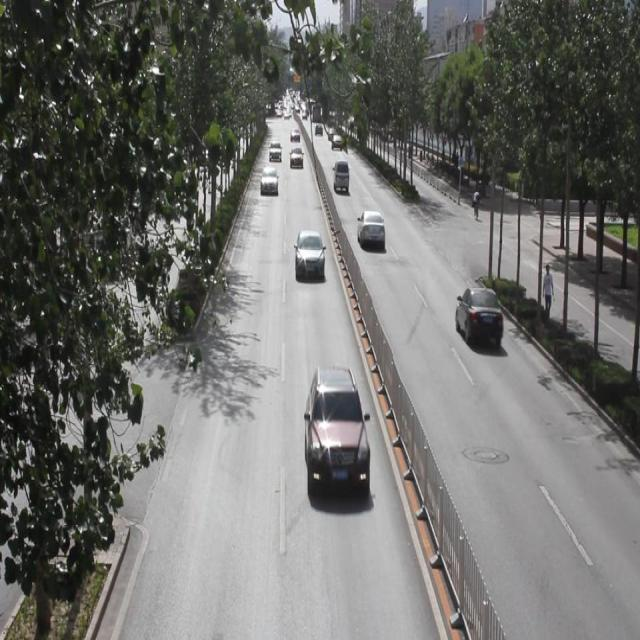car: (304, 366, 368, 491), (455, 284, 502, 345), (294, 229, 324, 282), (356, 209, 384, 251), (259, 165, 279, 195), (268, 139, 282, 163), (289, 146, 303, 168), (331, 132, 343, 151), (290, 125, 300, 144), (326, 126, 336, 141)
truck: (331, 159, 349, 191)
